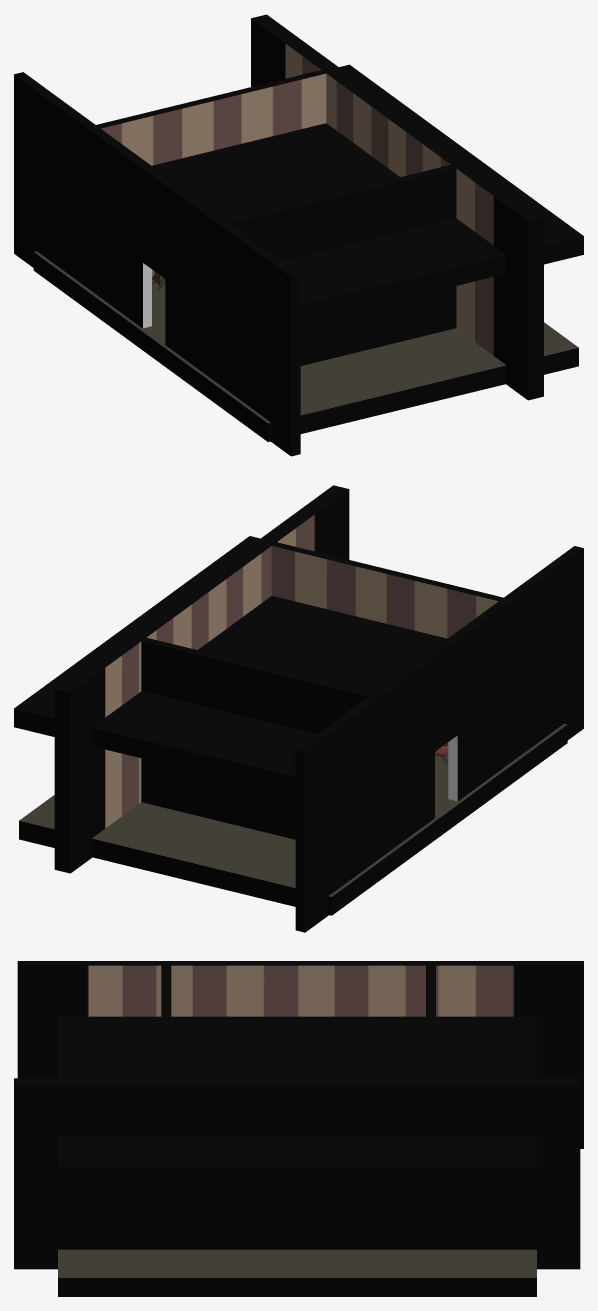
File: Room3.fbx
The picture shows the model from 3 angles, top to bottom: view 1: azimuth 30°, elevation 25°; view 2: azimuth 150°, elevation 25°; view 3: azimuth 270°, elevation 25°; orthographic projection. The views are drawn at different scales.
Visible parts, largest first — view 1: Room Material; view 2: Room Material, None.001; view 3: Room Material.
Boxes of the visible parts, bbox=[...] form: Room Material: bbox=[14, 14, 583, 456]; Room Material: bbox=[14, 485, 583, 932]; None.001: bbox=[448, 736, 457, 801]; Room Material: bbox=[14, 961, 583, 1296].
Size of the model in its own units: 1795 by 974 by 2745.
Materials: 6 (6 with a texture image).
